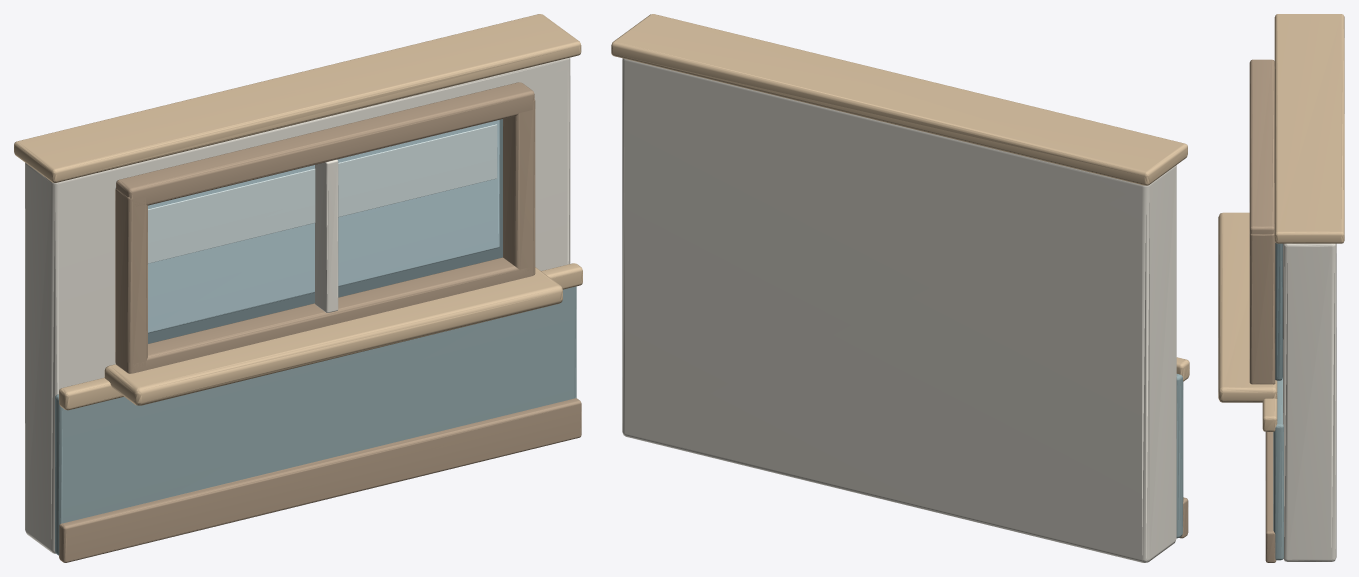
Rendered from WindowWall.fbx.
3 renders of one model, left to right at view 1: azimuth 30°, elevation 25°; view 2: azimuth 150°, elevation 25°; view 3: azimuth 270°, elevation 25°, orthographic. The views are drawn at different scales.
Parts seen in each view (by area): view 1: WindowWall; view 2: WindowWall; view 3: WindowWall.
Boxes of the visible parts, box(x1,y1,x2,y2) form: WindowWall: box(14, 14, 582, 562); WindowWall: box(611, 14, 1189, 562); WindowWall: box(1218, 14, 1344, 562).
Size of the model in its own units: 1.94 by 1.37 by 0.47.
